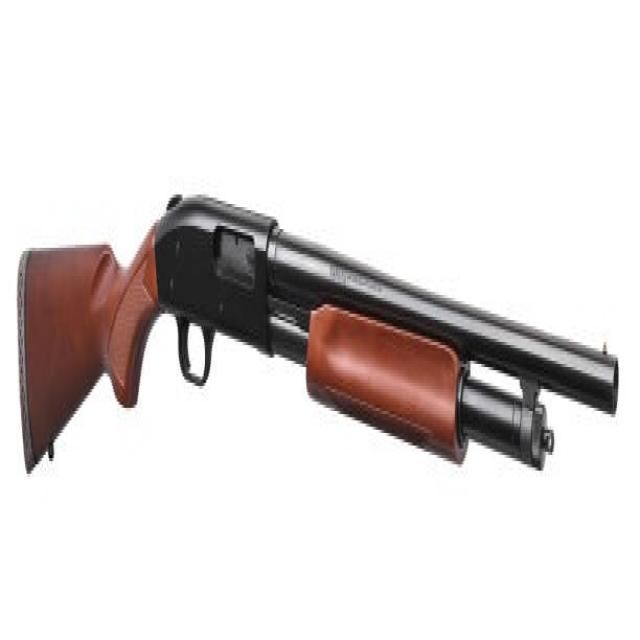rifle: (11, 175, 626, 499)
